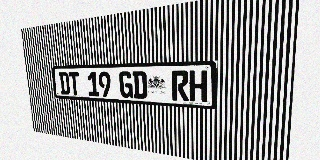1: (87, 72, 99, 96)
9: (98, 71, 111, 97)
D: (132, 71, 147, 99), (59, 72, 70, 95)
G: (119, 71, 133, 98)
H: (189, 70, 207, 102)
R: (172, 70, 189, 101)
T: (68, 72, 80, 95)
